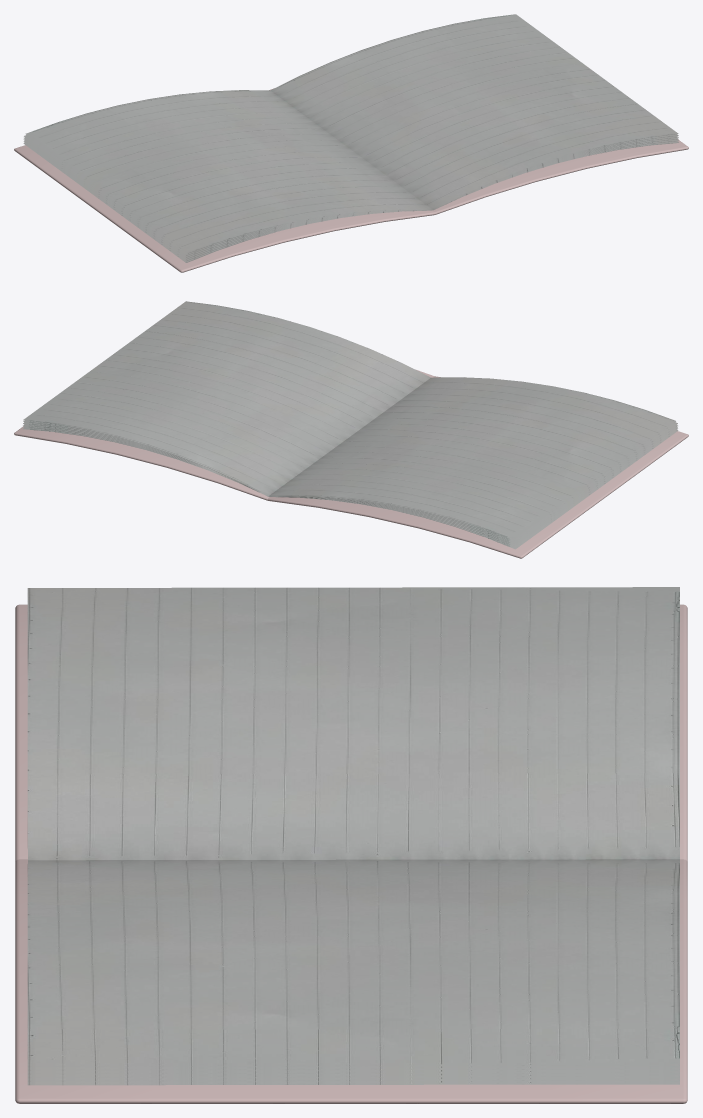
File: 筆記本.fbx
The picture shows the model from 3 angles, top to bottom: view 1: azimuth 30°, elevation 25°; view 2: azimuth 150°, elevation 25°; view 3: azimuth 270°, elevation 25°; orthographic projection. The views are drawn at different scales.
Visible parts, largest first — view 1: Plane006, Plane012, ChamferBox002, ChamferBox001, Plane011, Plane009, Plane008, Plane007, Plane010; view 2: Plane006, Plane012, ChamferBox002, ChamferBox001, Plane011, Plane008, Plane009, Plane010, Plane007; view 3: Plane012, Plane006, ChamferBox001, ChamferBox002, Plane005, Plane003, Plane002, Plane004, Plane001.
Boxes of the visible parts, x1,y1,x2,y2 form: Plane006: [271, 14, 678, 209]; Plane012: [25, 90, 433, 253]; ChamferBox002: [14, 145, 435, 272]; ChamferBox001: [269, 88, 688, 214]; Plane011: [24, 135, 431, 255]; Plane009: [23, 139, 416, 259]; Plane008: [23, 141, 423, 261]; Plane007: [23, 143, 426, 262]; Plane010: [24, 137, 400, 257]; Plane006: [23, 301, 430, 496]; Plane012: [268, 377, 675, 539]; ChamferBox002: [267, 376, 688, 558]; ChamferBox001: [14, 369, 434, 500]; Plane011: [269, 422, 677, 541]; Plane008: [279, 428, 677, 547]; Plane009: [287, 426, 677, 545]; Plane010: [295, 424, 677, 543]; Plane007: [276, 430, 678, 549]; Plane012: [27, 587, 679, 860]; Plane006: [27, 859, 679, 1066]; ChamferBox001: [15, 859, 687, 1103]; ChamferBox002: [15, 604, 687, 861]; Plane005: [27, 1066, 679, 1070]; Plane003: [27, 1073, 679, 1077]; Plane002: [27, 1077, 679, 1081]; Plane004: [27, 1069, 679, 1074]; Plane001: [27, 1081, 679, 1085].
Bounding box in the file's own units: 11.7 × 0.5627 × 6.69.
2 materials, 1 textured.
